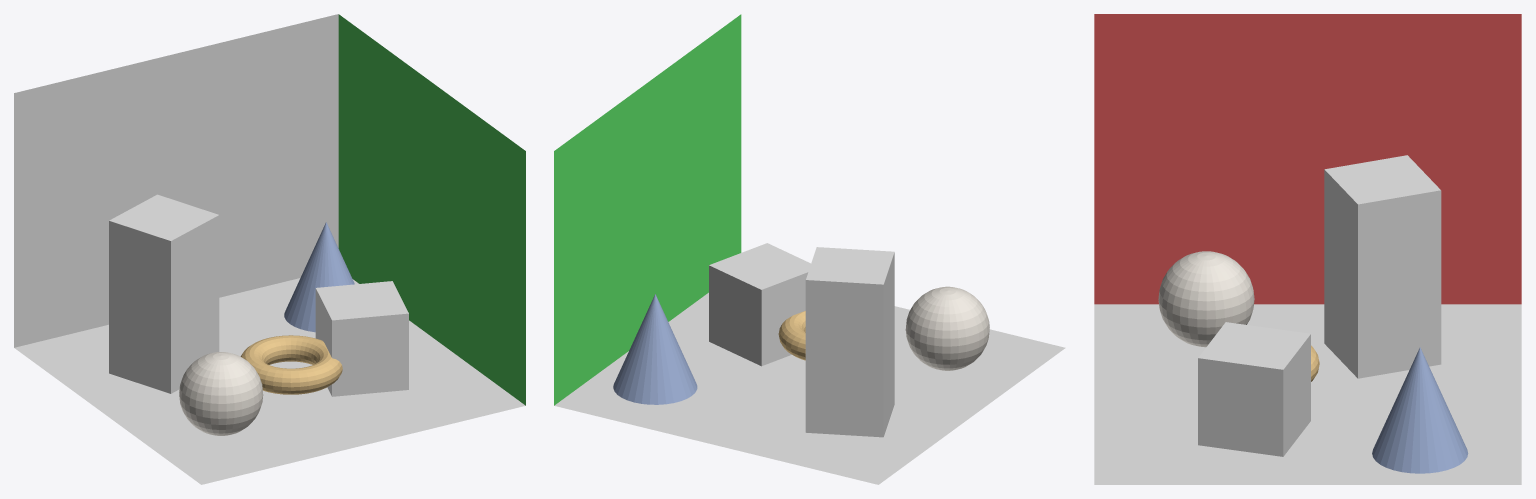
The model's file is CornellBox.gltf.
3 renders of one model, left to right at view 1: azimuth 30°, elevation 25°; view 2: azimuth 150°, elevation 25°; view 3: azimuth 270°, elevation 25°, orthographic. The views are drawn at different scales.
Visible parts, largest first — view 1: Back Wall, Right Wall, Floor, Tall Box, Short Box, Sphere, Torus, Cone; view 2: Right Wall, Floor, Tall Box, Short Box, Sphere, Cone, Torus; view 3: Left Wall, Floor, Tall Box, Short Box, Cone, Sphere.
Boxes of the visible parts, box(x1,y1,x2,y2) form: Back Wall: box(14, 14, 338, 347); Right Wall: box(338, 14, 525, 405); Floor: box(14, 278, 525, 484); Tall Box: box(109, 194, 219, 393); Short Box: box(315, 281, 408, 396); Sphere: box(179, 352, 263, 435); Torus: box(240, 335, 342, 394); Cone: box(284, 222, 354, 332); Right Wall: box(554, 14, 741, 405); Floor: box(554, 292, 1065, 484); Tall Box: box(805, 247, 894, 437); Short Box: box(709, 243, 810, 366); Sphere: box(905, 286, 989, 370); Cone: box(613, 294, 697, 404); Torus: box(778, 311, 805, 360); Left Wall: box(1094, 14, 1521, 304); Floor: box(1094, 304, 1521, 484); Tall Box: box(1324, 155, 1441, 378); Short Box: box(1198, 322, 1310, 456); Cone: box(1372, 347, 1468, 473); Sphere: box(1158, 251, 1254, 347).
Size of the model in its own units: 4 by 3 by 4.
